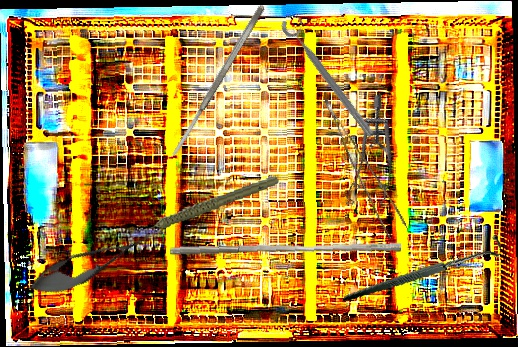Fixation Ring: (277, 10, 385, 141)
Handpiece: (129, 174, 284, 234)
Hook Surgical: (343, 211, 503, 326)
Micro Scissor: (22, 221, 158, 306)
Pusher: (169, 234, 402, 265)
Spatula Surgical: (168, 3, 267, 160)
Speculum: (312, 92, 421, 222)
Tissue Forceps: (324, 88, 409, 243)
